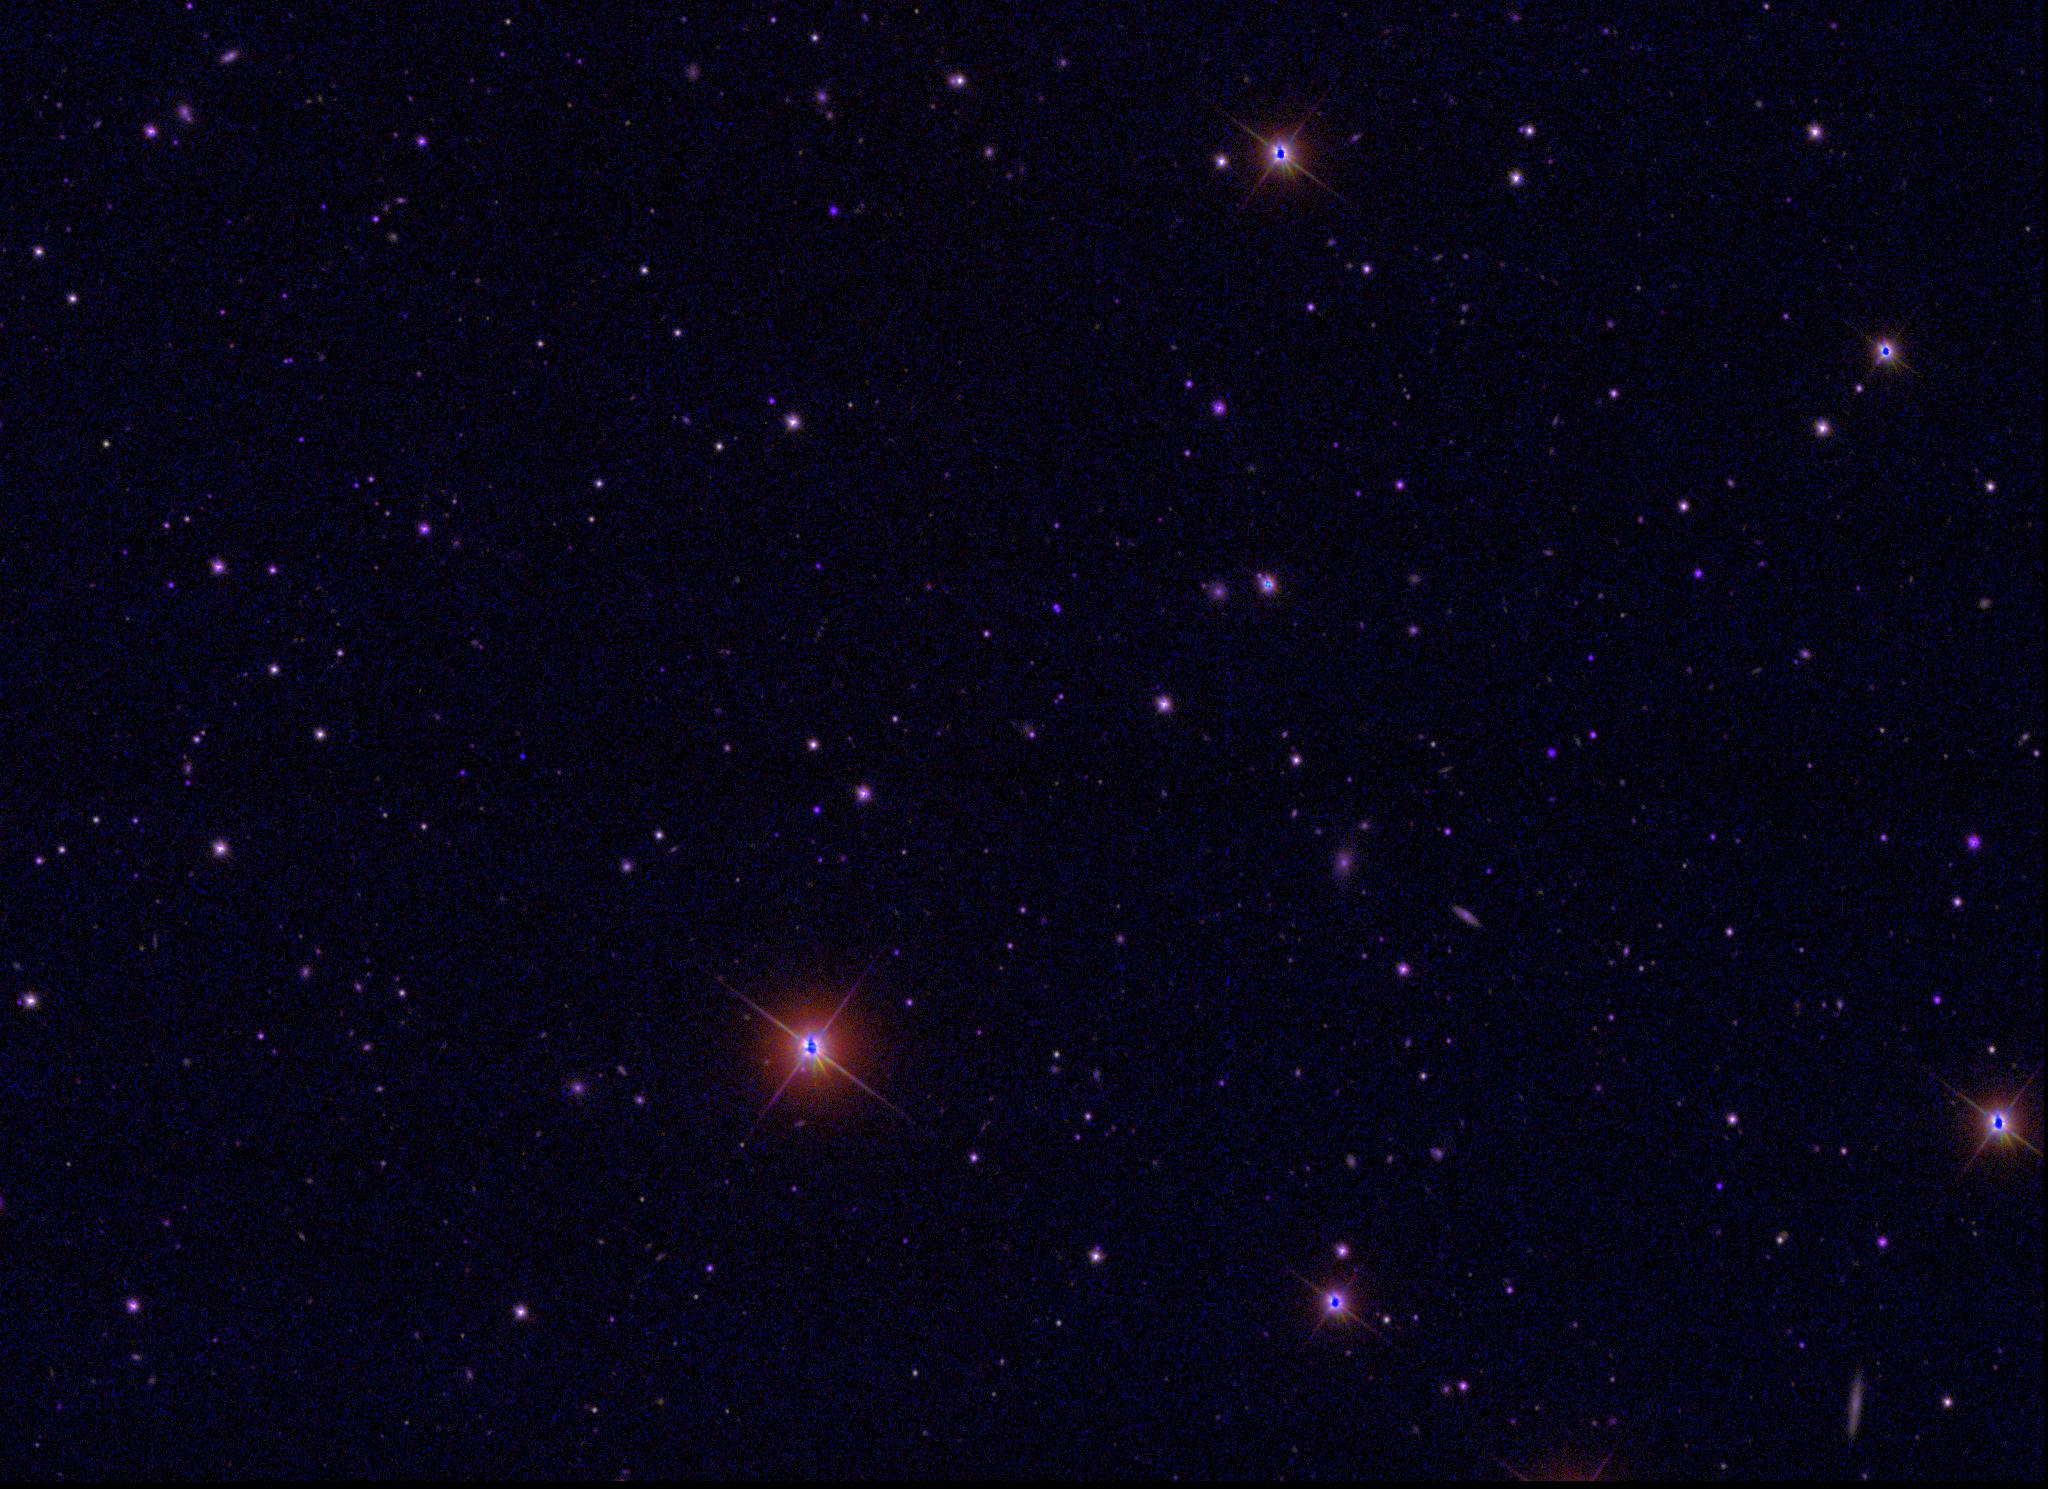L: (517, 749, 529, 764)
